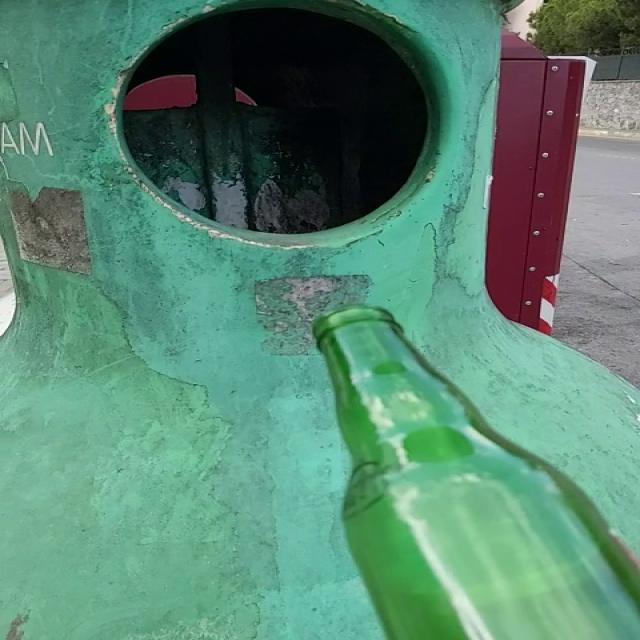Glass: (313, 308, 639, 640)
